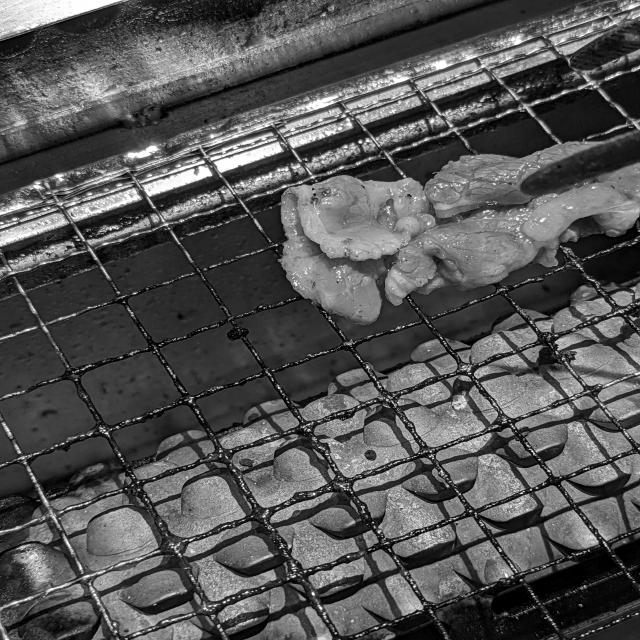OK undercooked beef,: (265, 134, 640, 336)
